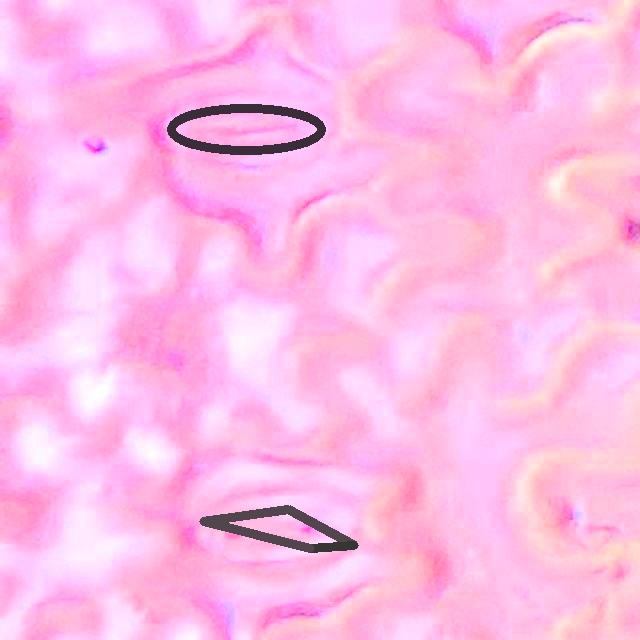close: (199, 505, 358, 552)
open: (166, 103, 327, 155)
